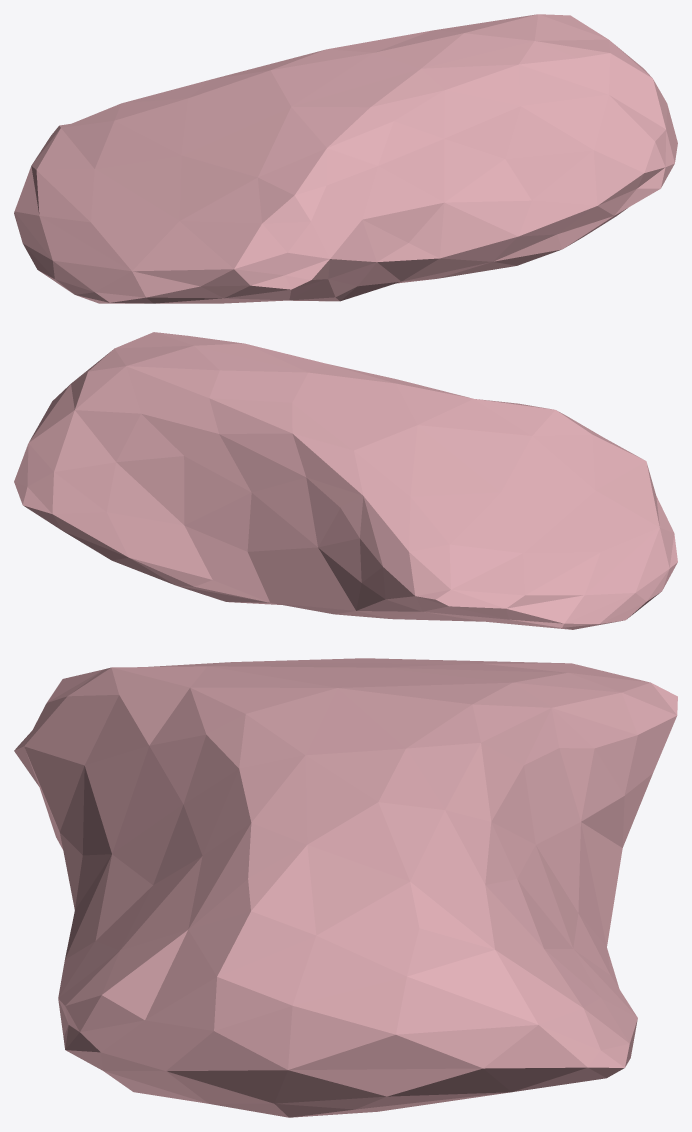
3 views of the same model, one above another, from view 1: azimuth 30°, elevation 25°; view 2: azimuth 150°, elevation 25°; view 3: azimuth 270°, elevation 25° (orthographic). The views are drawn at different scales.
Visible parts, largest first — view 1: 189.obj; view 2: 189.obj; view 3: 189.obj.
Part boxes in pixels (x1,y1,x2,y2): 189.obj: (14, 14, 677, 303); 189.obj: (14, 332, 677, 629); 189.obj: (14, 658, 677, 1117).
Bounding box in the file's own units: 935 × 271 × 576.
